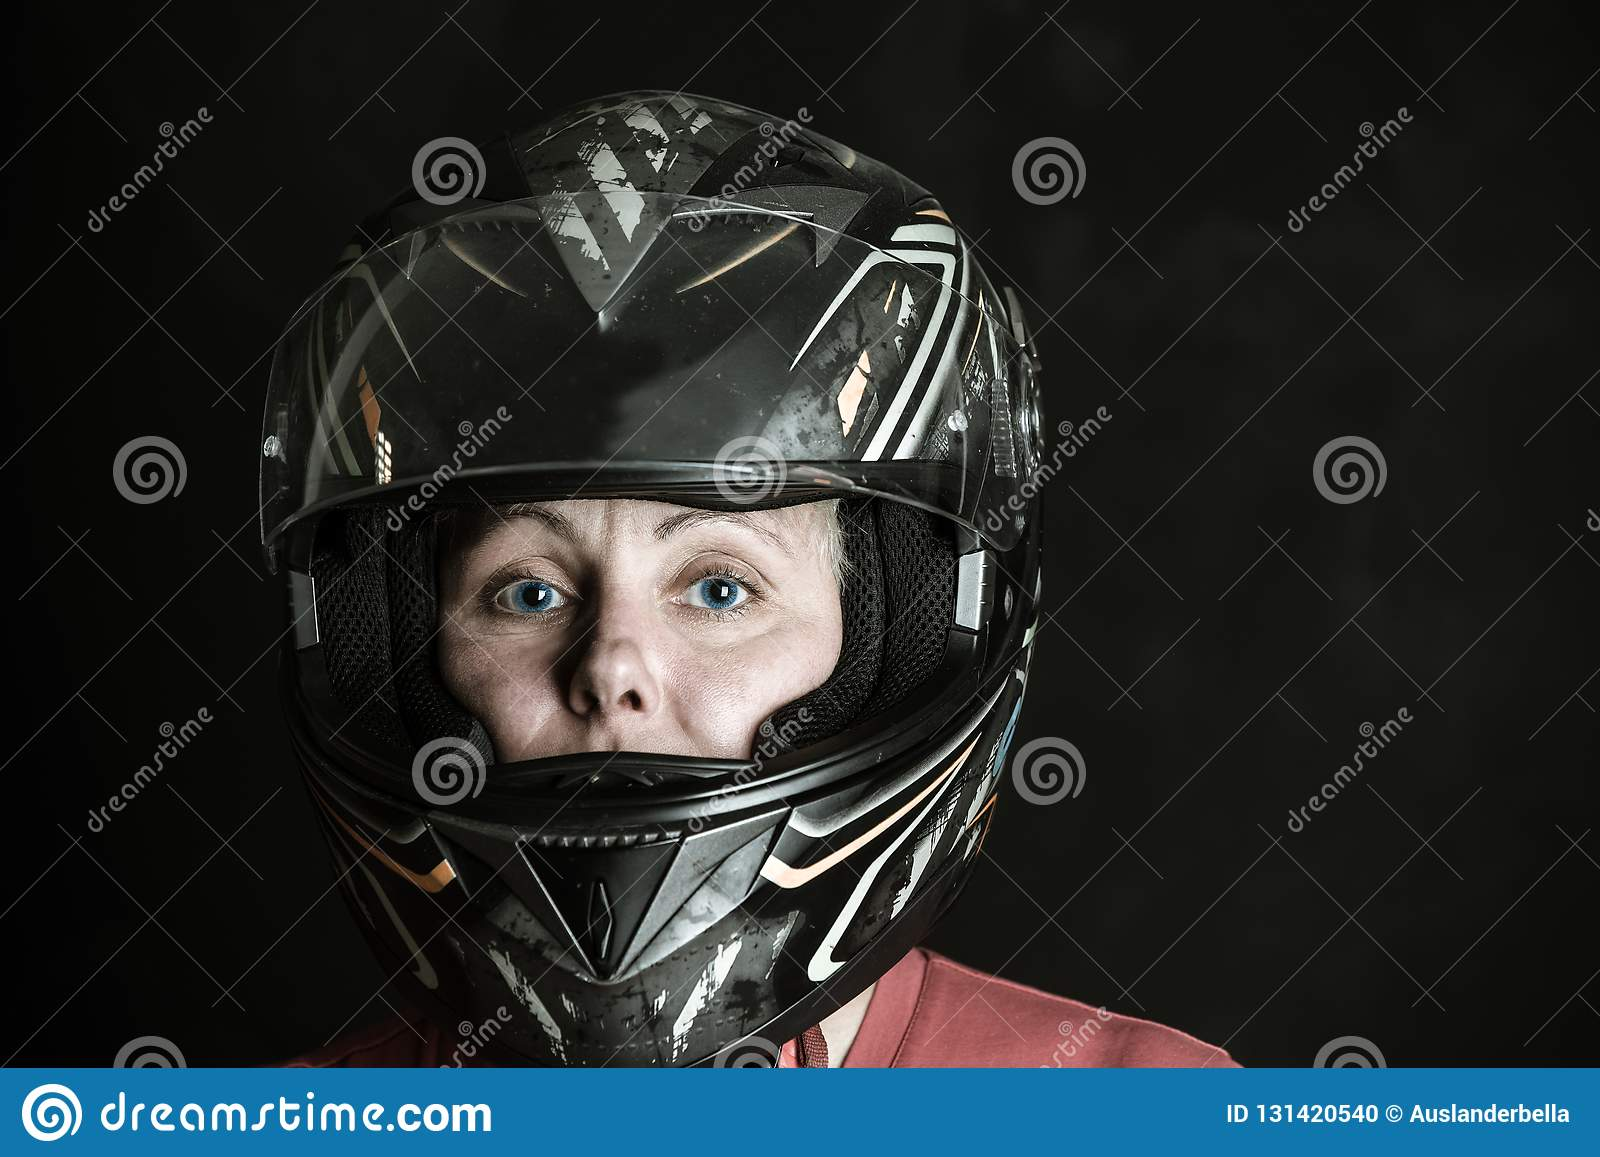helmet: (271, 89, 1043, 1053)
